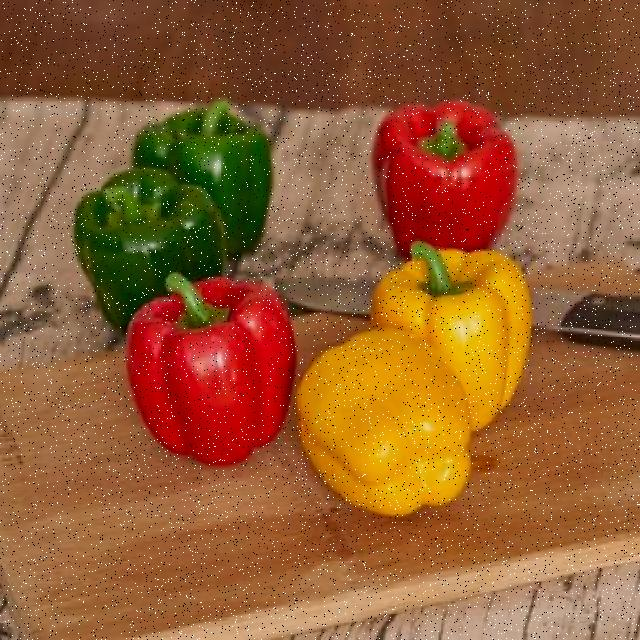Bell Pepper: (272, 315, 491, 533), (104, 252, 298, 468), (353, 85, 521, 268)
